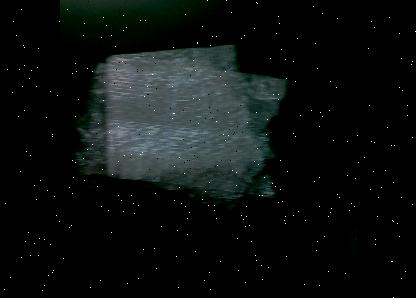Others: (70, 42, 292, 214)
